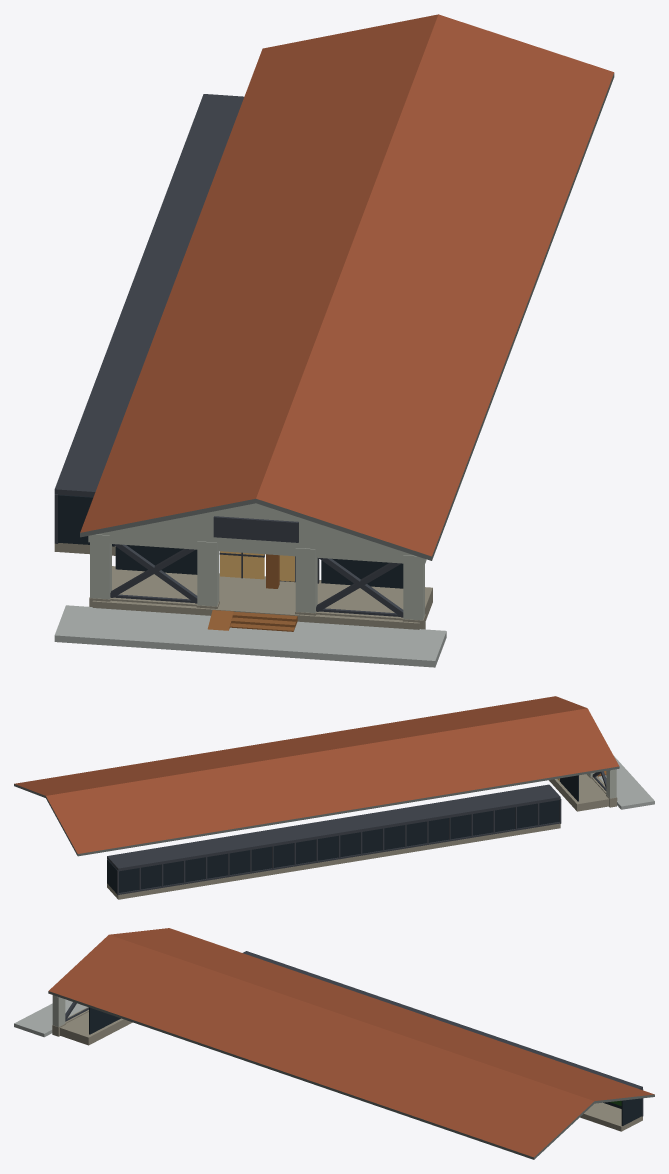
Rendered from buyukev.glb.
The picture shows the model from 3 angles, top to bottom: view 1: azimuth 30°, elevation 25°; view 2: azimuth 150°, elevation 25°; view 3: azimuth 270°, elevation 25°; orthographic projection. The views are drawn at different scales.
Visible parts, largest first — view 1: buyukev; view 2: buyukev; view 3: buyukev.
Part boxes in pixels (left/top/right/bottom): buyukev: left=54, top=14, right=614, bottom=667; buyukev: left=14, top=696, right=654, bottom=899; buyukev: left=14, top=928, right=654, bottom=1159.
Size of the model in its own units: 54.44 by 7.31 by 60.89.
